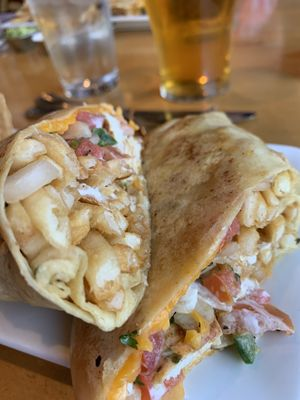soup: (118, 111, 300, 393)
